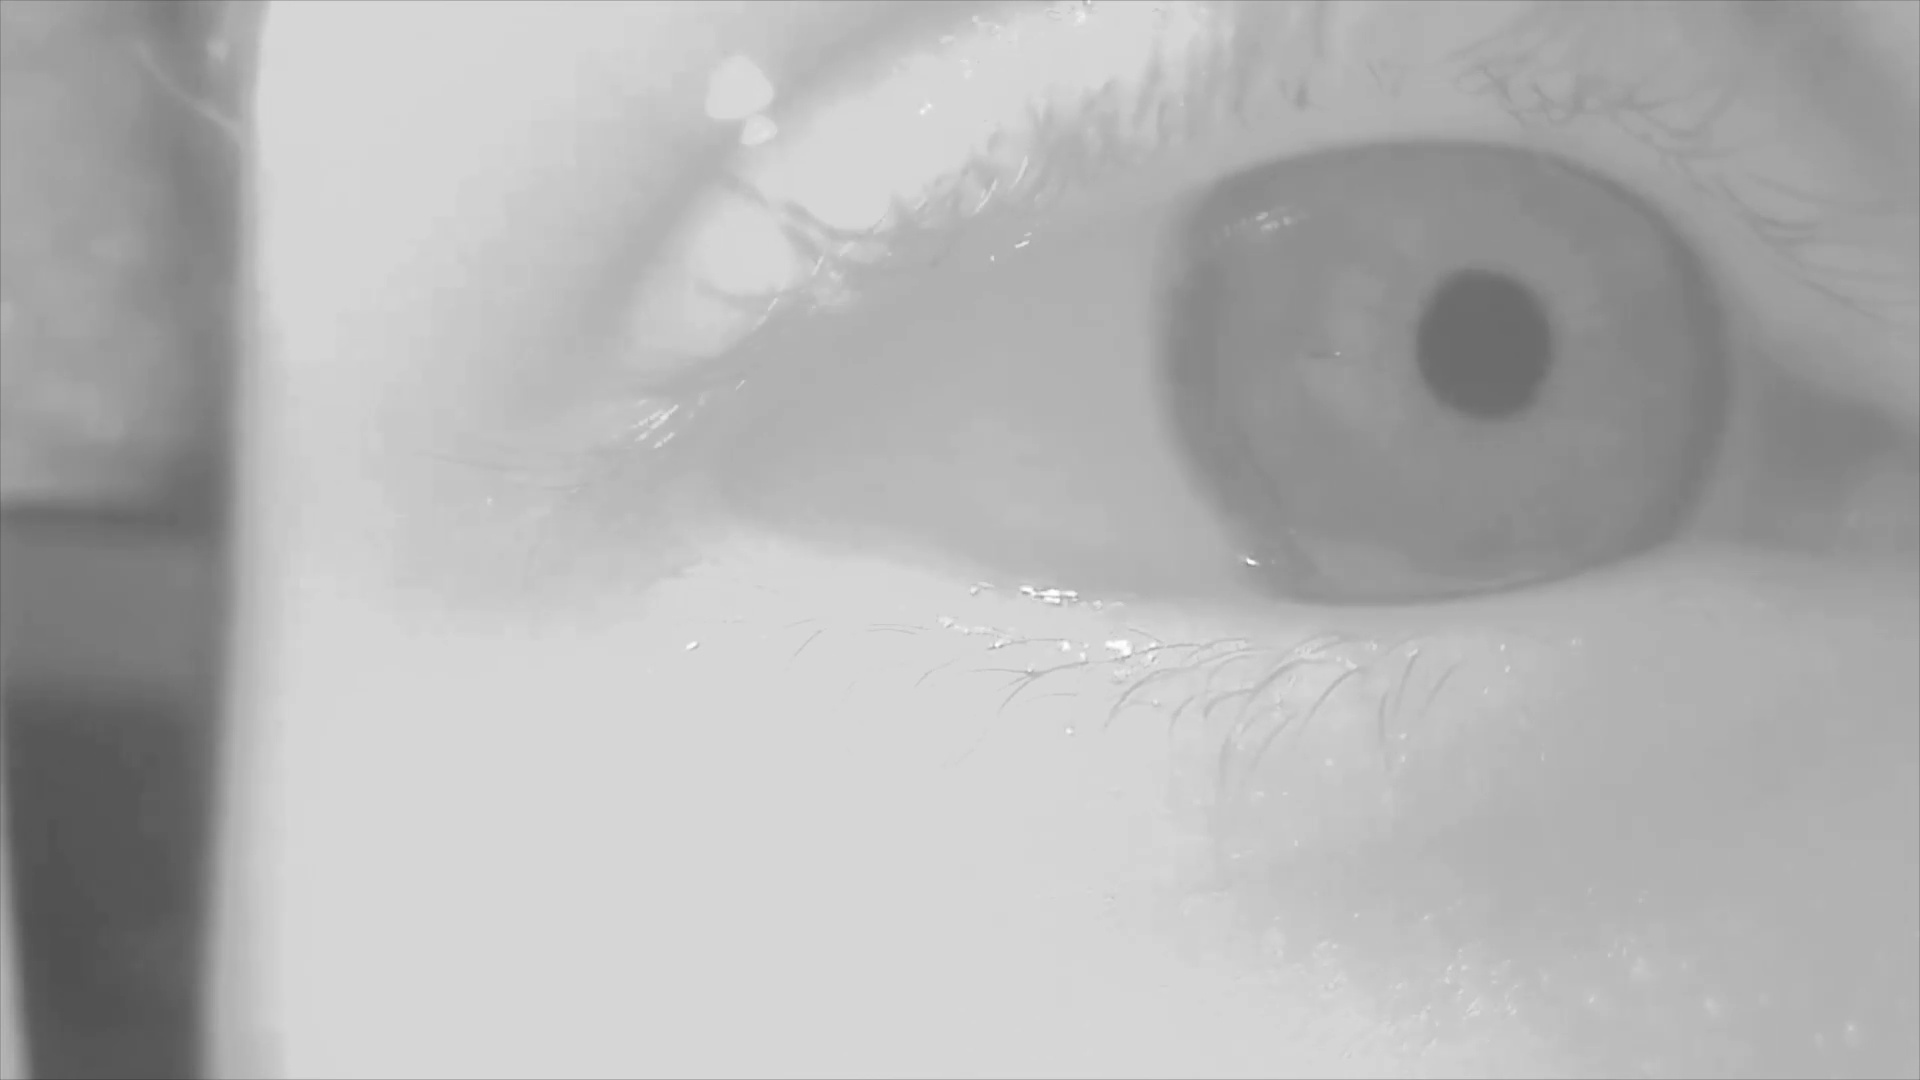pupil: (1417, 276, 1559, 420)
